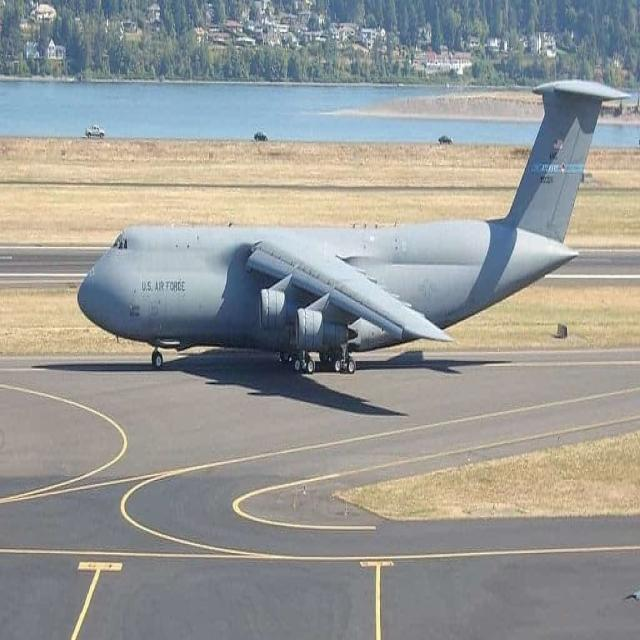MIL_Plane: (301, 78, 407, 375)
